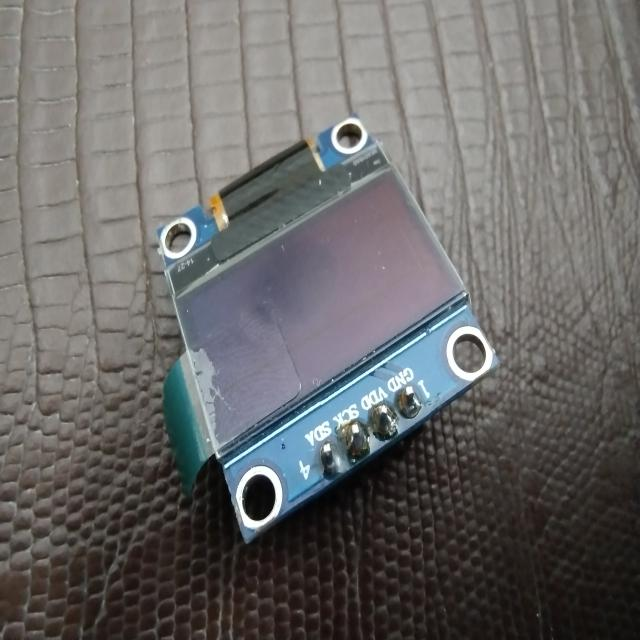oled: (152, 102, 504, 550)
